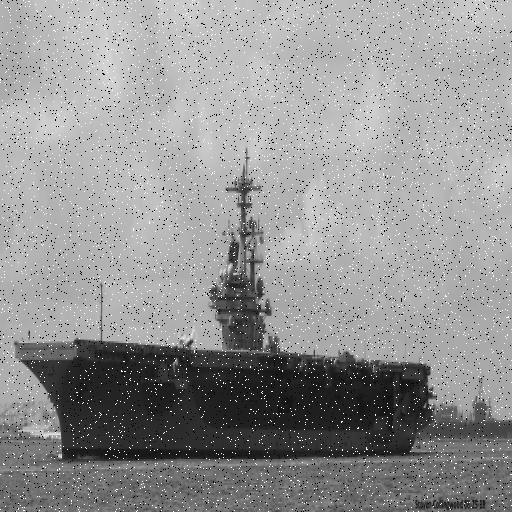Portanaves: (11, 131, 438, 467)
